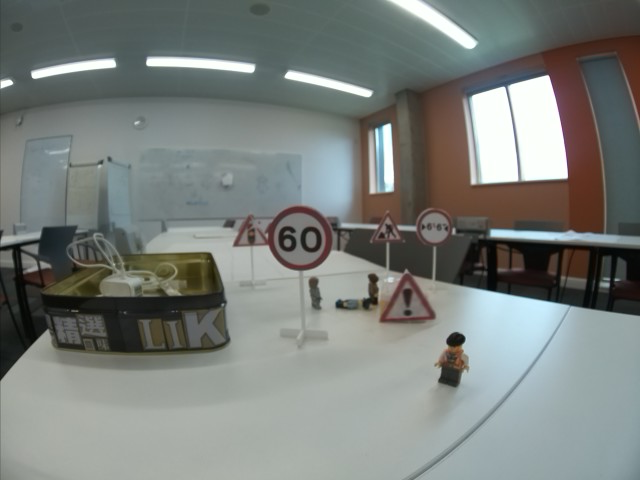60mph: (268, 204, 333, 270)
6ft6: (415, 204, 453, 247)
Lego Man: (436, 331, 472, 387), (308, 278, 324, 311), (332, 297, 371, 310), (368, 273, 379, 307)
Roadworks: (369, 212, 404, 242)
Traffic lights: (233, 214, 272, 247)
Warning: (375, 271, 436, 320)
